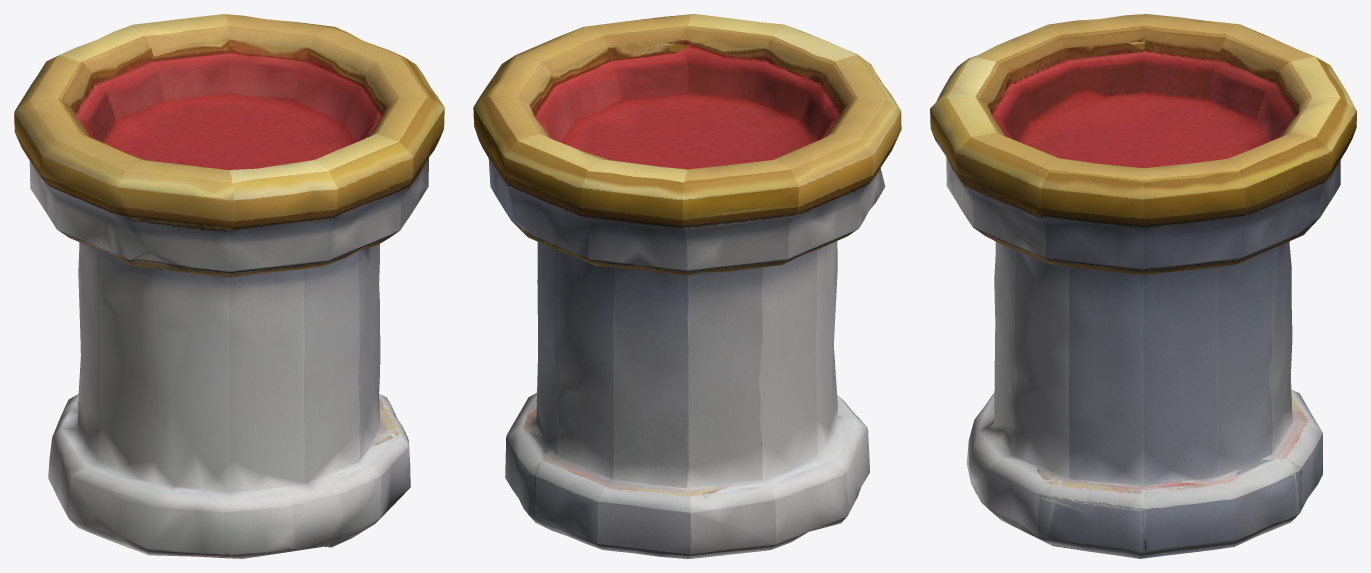
File: P_ShowPedestal_h55.fbx
3 renders of one model, left to right at view 1: azimuth 30°, elevation 25°; view 2: azimuth 150°, elevation 25°; view 3: azimuth 270°, elevation 25°, orthographic.
Visible parts, largest first — view 1: texture_mapping; view 2: texture_mapping; view 3: texture_mapping.
Boxes of the visible parts, x1,y1,x2,y2 form: texture_mapping: (14, 14, 444, 558); texture_mapping: (473, 14, 901, 558); texture_mapping: (930, 14, 1356, 558).
Bounding box in the file's own units: 0.9944 × 0.9944 × 0.9996.
1 material, 1 textured.
